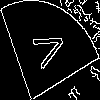V: (25, 25, 68, 74)
